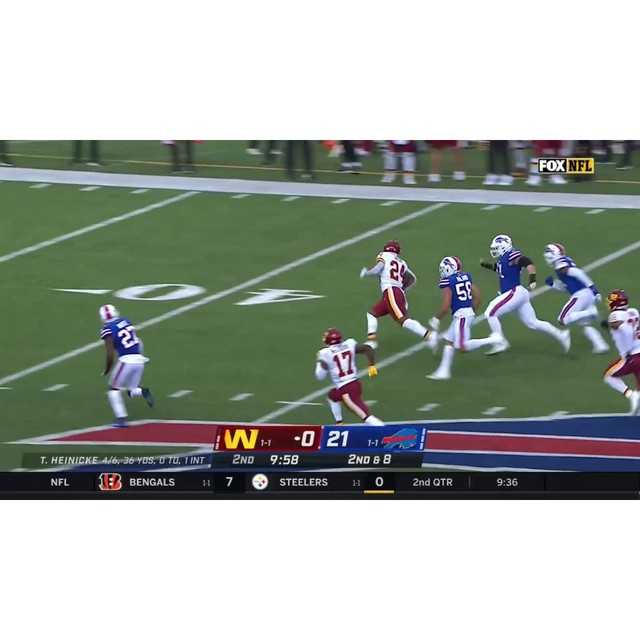american-football-player: (481, 234, 567, 358), (361, 240, 429, 353), (426, 256, 487, 379), (95, 304, 157, 425), (544, 244, 608, 352), (314, 328, 381, 425), (597, 288, 640, 414)
